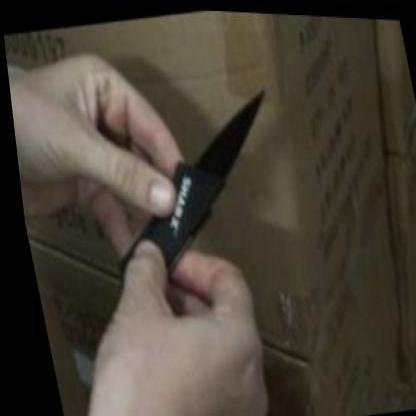knife: (93, 64, 302, 296)
